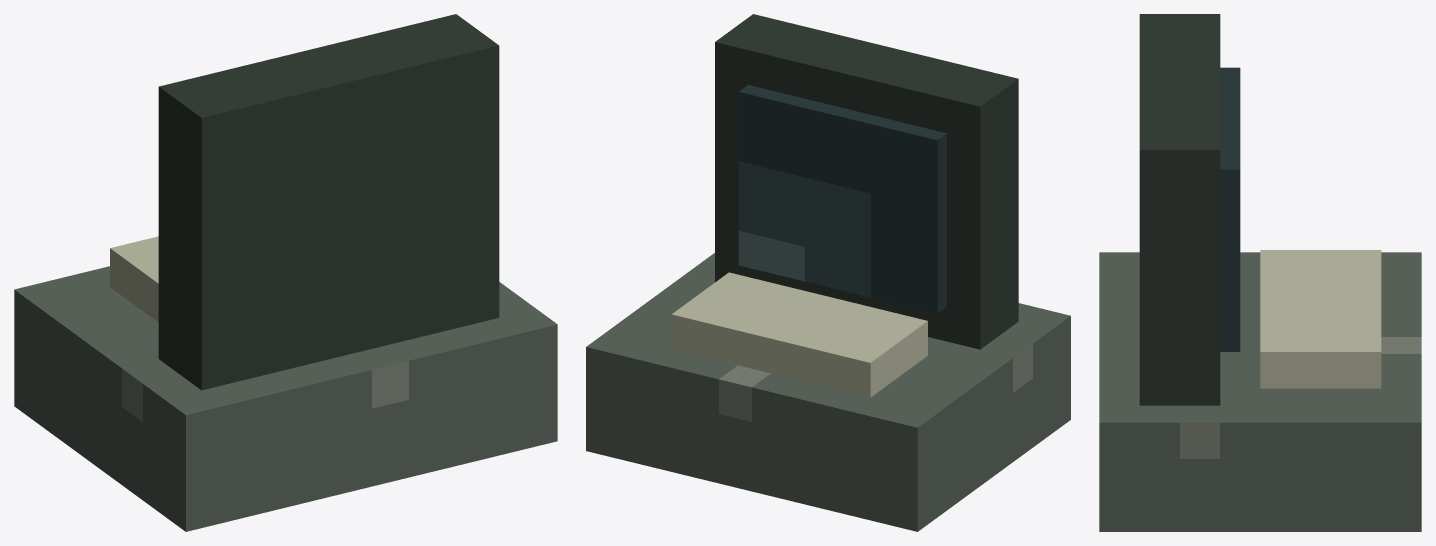
The model's file is register.gltf.
3 views of the same model, side by side, from view 1: azimuth 30°, elevation 25°; view 2: azimuth 150°, elevation 25°; view 3: azimuth 270°, elevation 25° (orthographic). The views are drawn at different scales.
Visible parts, largest first — view 1: screen, base, keys; view 2: base, screen, display, keys; view 3: base, screen, keys, display.
Boxes of the visible parts, x1=… form: screen: x1=158, y1=14, x2=499, y2=390; base: x1=14, y1=266, x2=557, y2=531; keys: x1=110, y1=236, x2=158, y2=322; base: x1=586, y1=253, x2=1070, y2=531; screen: x1=715, y1=14, x2=1018, y2=349; display: x1=738, y1=85, x2=946, y2=313; keys: x1=671, y1=272, x2=927, y2=397; base: x1=1099, y1=252, x2=1421, y2=531; screen: x1=1139, y1=14, x2=1220, y2=405; keys: x1=1260, y1=250, x2=1381, y2=388; display: x1=1220, y1=67, x2=1240, y2=351.
Size of the model in its own units: 0.625 by 0.625 by 0.5.
4 materials, 4 textured.
